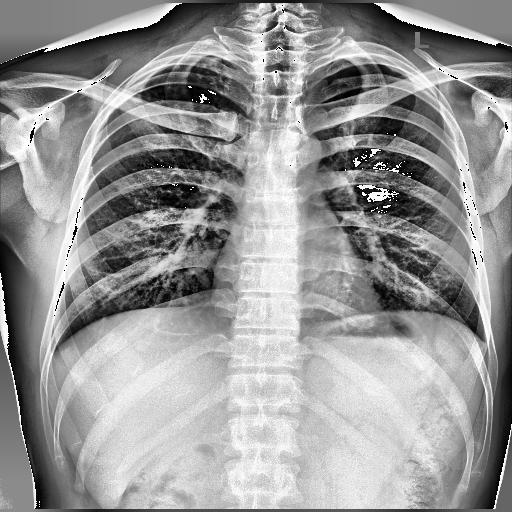13- Pulmonary fibrosis: (129, 62, 223, 111), (135, 59, 235, 103), (143, 54, 232, 102)
